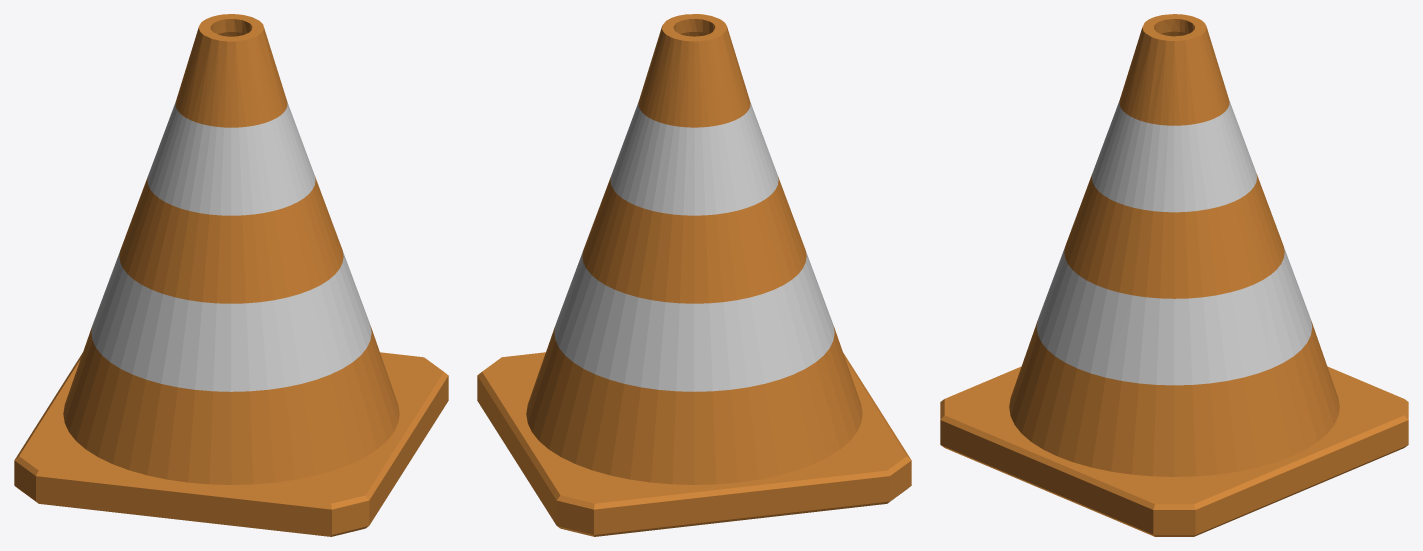
Rendered from trafficCone.glb.
3 renders of one model, left to right at view 1: azimuth 30°, elevation 25°; view 2: azimuth 150°, elevation 25°; view 3: azimuth 270°, elevation 25°, orthographic.
Visible parts, largest first — view 1: Mesh_Mesh_head_geo001_lambert2SG001; view 2: Mesh_Mesh_head_geo001_lambert2SG001; view 3: Mesh_Mesh_head_geo001_lambert2SG001.
Boxes of the visible parts, box(x1,y1,x2,y2) form: Mesh_Mesh_head_geo001_lambert2SG001: box(14, 14, 448, 536); Mesh_Mesh_head_geo001_lambert2SG001: box(477, 14, 911, 536); Mesh_Mesh_head_geo001_lambert2SG001: box(940, 14, 1408, 536).
Bounding box in the file's own units: 85 × 82.55 × 85.
